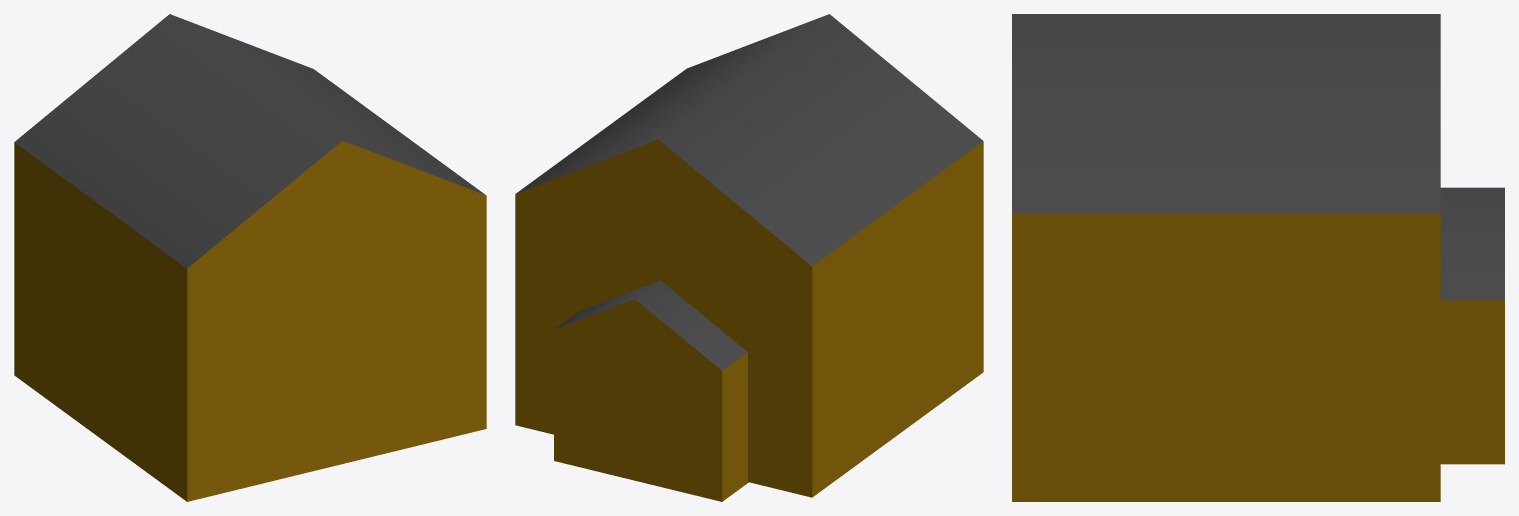
File: Yellow House.fbx
The picture shows the model from 3 angles, left to right: view 1: azimuth 30°, elevation 25°; view 2: azimuth 150°, elevation 25°; view 3: azimuth 270°, elevation 25°; orthographic projection. The views are drawn at different scales.
Visible parts, largest first — view 1: polySurface11; view 2: polySurface11; view 3: polySurface11.
Boxes of the visible parts, x1=… form: polySurface11: x1=14, y1=14, x2=486, y2=501; polySurface11: x1=515, y1=14, x2=983, y2=501; polySurface11: x1=1012, y1=14, x2=1504, y2=501.
Size of the model in its own units: 2.05 by 2.13 by 2.36.
